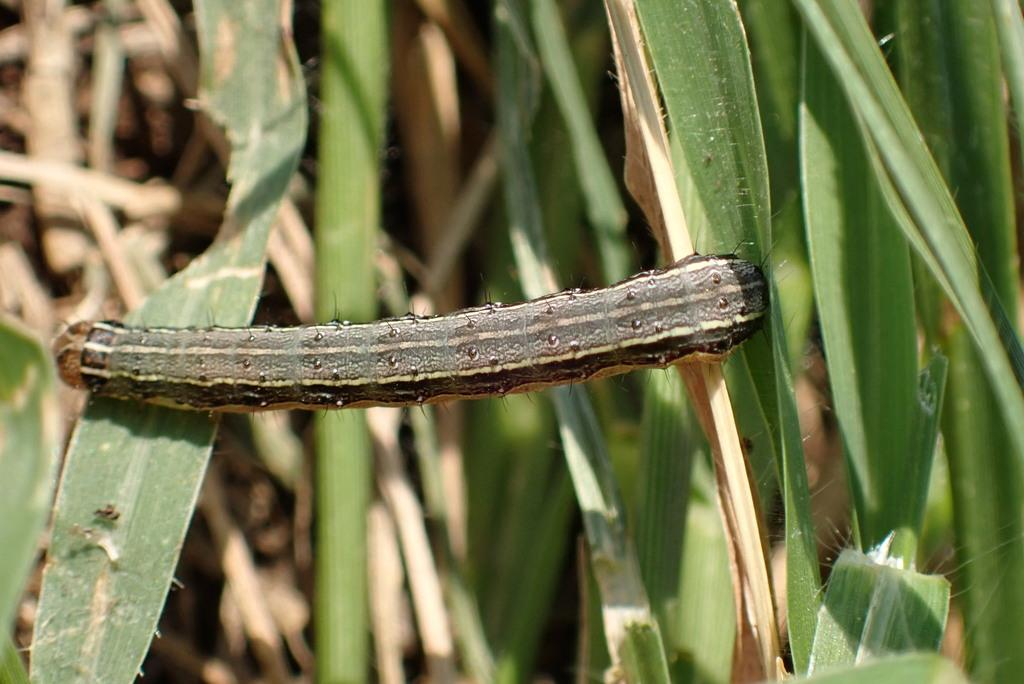caterpillars: (2, 201, 845, 503)
